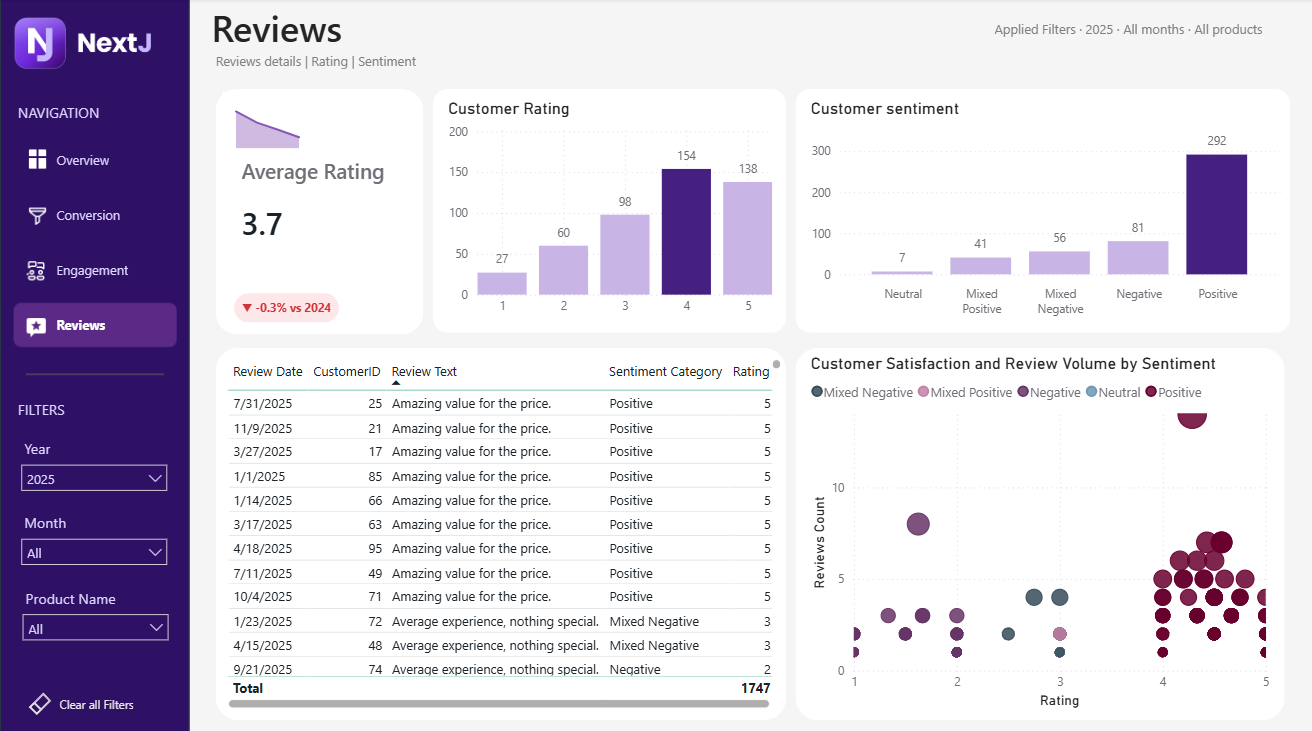

The dashboard page shown, as its layout file describes it:
{"tool":"powerbi","page":{"name":"Customer Reviews Details","canvas":[1400,820],"ordinal":3},"visuals":[{"type":"textbox","box":[0,0,1400.3,78.7],"z":0},{"type":"slicer","fields":{"Values":["dim_product.ProductName"]},"box":[0,151.4,197.1,668.6],"z":1000},{"type":"advancedSlicerVisual","fields":{"Values":["Date.Year"]},"box":[382.9,0,212.9,78.6],"z":2000},{"type":"advancedSlicerVisual","fields":{"Values":["Date.MonthNameShort"]},"box":[610,0,790,78.6],"z":3000},{"type":"cardVisual","fields":{"Data":["_mesures.Average Rating"]},"box":[210.3,91.5,173.1,227.4],"z":4000},{"type":"clusteredColumnChart","title":"Number of Customer Reviews by Rating","fields":{"Category":["fact_customer_reviews.Rating"],"Y":["CountNonNull(fact_customer_reviews.CustomerID)"]},"box":[397.3,91.1,256,227.4],"z":5000},{"type":"clusteredColumnChart","title":"Number of Customer Reviews by Sentiment Category ","fields":{"Category":["fact_customer_reviews_with_sentiment.SentimentCategory"],"Y":["CountNonNull(fact_customer_reviews_with_sentiment.CustomerID)"]},"box":[666.2,92.5,296.1,226],"z":6000},{"type":"lineChart","title":"Average Rating by Month and Sentiment Category","fields":{"Category":["Date.MonthNameShort"],"Series":["fact_customer_reviews_with_sentiment.SentimentCategory"],"Y":["Avg(fact_customer_reviews_with_sentiment.Rating)"]},"box":[973.7,92.5,426.2,226],"z":7000},{"type":"tableEx","fields":{"Values":["fact_customer_reviews_with_sentiment.ReviewDate","fact_customer_reviews_with_sentiment.CustomerID","Min(fact_customer_reviews_with_sentiment.ReviewText)","Min(fact_customer_reviews_with_sentiment.SentimentCategory)","fact_customer_reviews_with_sentiment.Rating"]},"box":[210.3,331.8,799.6,487.8],"z":8000},{"type":"scatterChart","title":"Customer Satisfaction and Review Volume by Sentiment","fields":{"Category":["dim_customer.CustomerID"],"Y":["_mesures.Number of Customer Reviews"],"X":["Avg(fact_customer_reviews_with_sentiment.Rating)"],"Series":["fact_customer_reviews_with_sentiment.SentimentCategory"],"Size":["_mesures.Number of Customer Reviews"]},"box":[1019.8,331.8,380.5,487.8],"z":9000},{"type":"slicer","fields":{"Values":["dim_customer.Country"]},"box":[0,78.6,197.1,72.9],"z":10000}]}

Visuals, with their boxes on the page's 1400x820 design canvas (x1, y1, x2, y2). These are canvas units, not pixel positions in the 1312x731 screenshot, which may show the page scaled, cropped or inside an application window:
textbox: bbox(0, 0, 1400, 79)
slicer - dim_product.ProductName: bbox(0, 151, 197, 820)
advancedSlicerVisual - Date.Year: bbox(383, 0, 596, 79)
advancedSlicerVisual - Date.MonthNameShort: bbox(610, 0, 1400, 79)
cardVisual - _mesures.Average Rating: bbox(210, 92, 383, 319)
"Number of Customer Reviews by Rating" clusteredColumnChart: bbox(397, 91, 653, 318)
"Number of Customer Reviews by Sentiment Category " clusteredColumnChart: bbox(666, 92, 962, 318)
"Average Rating by Month and Sentiment Category" lineChart: bbox(974, 92, 1400, 318)
tableEx - fact_customer_reviews_with_sentiment.ReviewDate x fact_customer_reviews_with_sentiment.CustomerID: bbox(210, 332, 1010, 820)
"Customer Satisfaction and Review Volume by Sentiment" scatterChart: bbox(1020, 332, 1400, 820)
slicer - dim_customer.Country: bbox(0, 79, 197, 152)
